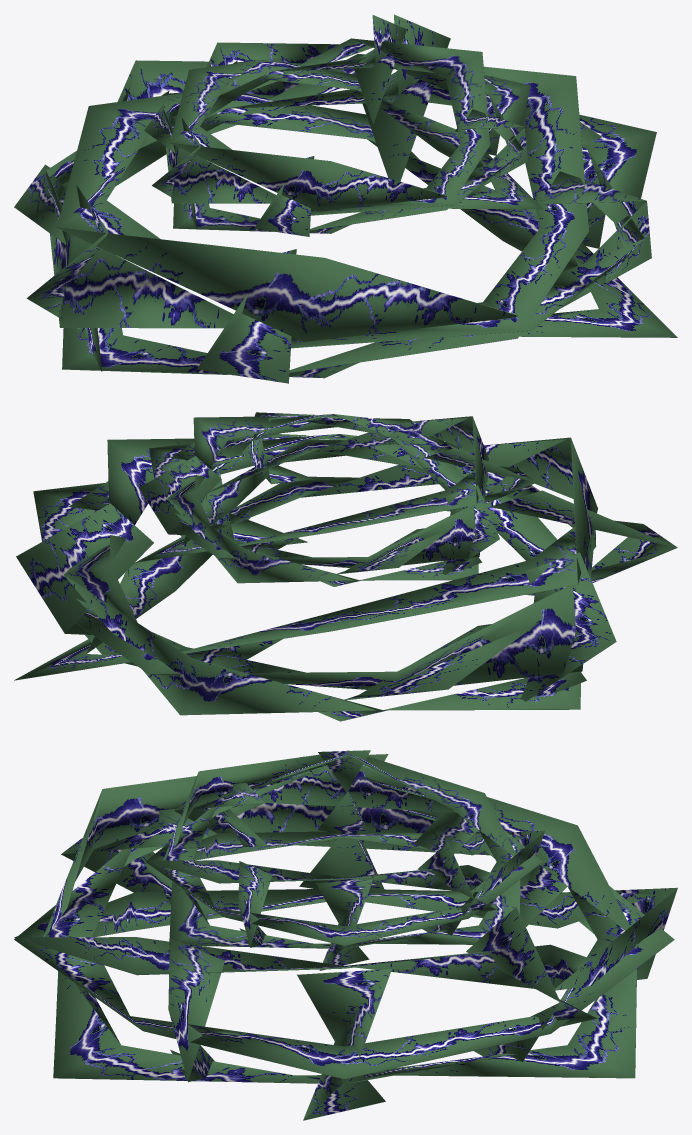
The model's file is TeslaSpark.glb.
3 renders of one model, top to bottom at view 1: azimuth 30°, elevation 25°; view 2: azimuth 150°, elevation 25°; view 3: azimuth 270°, elevation 25°, orthographic. The views are drawn at different scales.
Parts seen in each view (by area): view 1: arc2.png__; view 2: arc2.png__; view 3: arc2.png__.
Boxes of the visible parts, x1,y1,x2,y2 form: arc2.png__: [14, 14, 677, 383]; arc2.png__: [14, 412, 677, 721]; arc2.png__: [14, 750, 677, 1120].
Bounding box in the file's own units: 18.77 × 6.43 × 17.77.
1 material, 1 textured.
